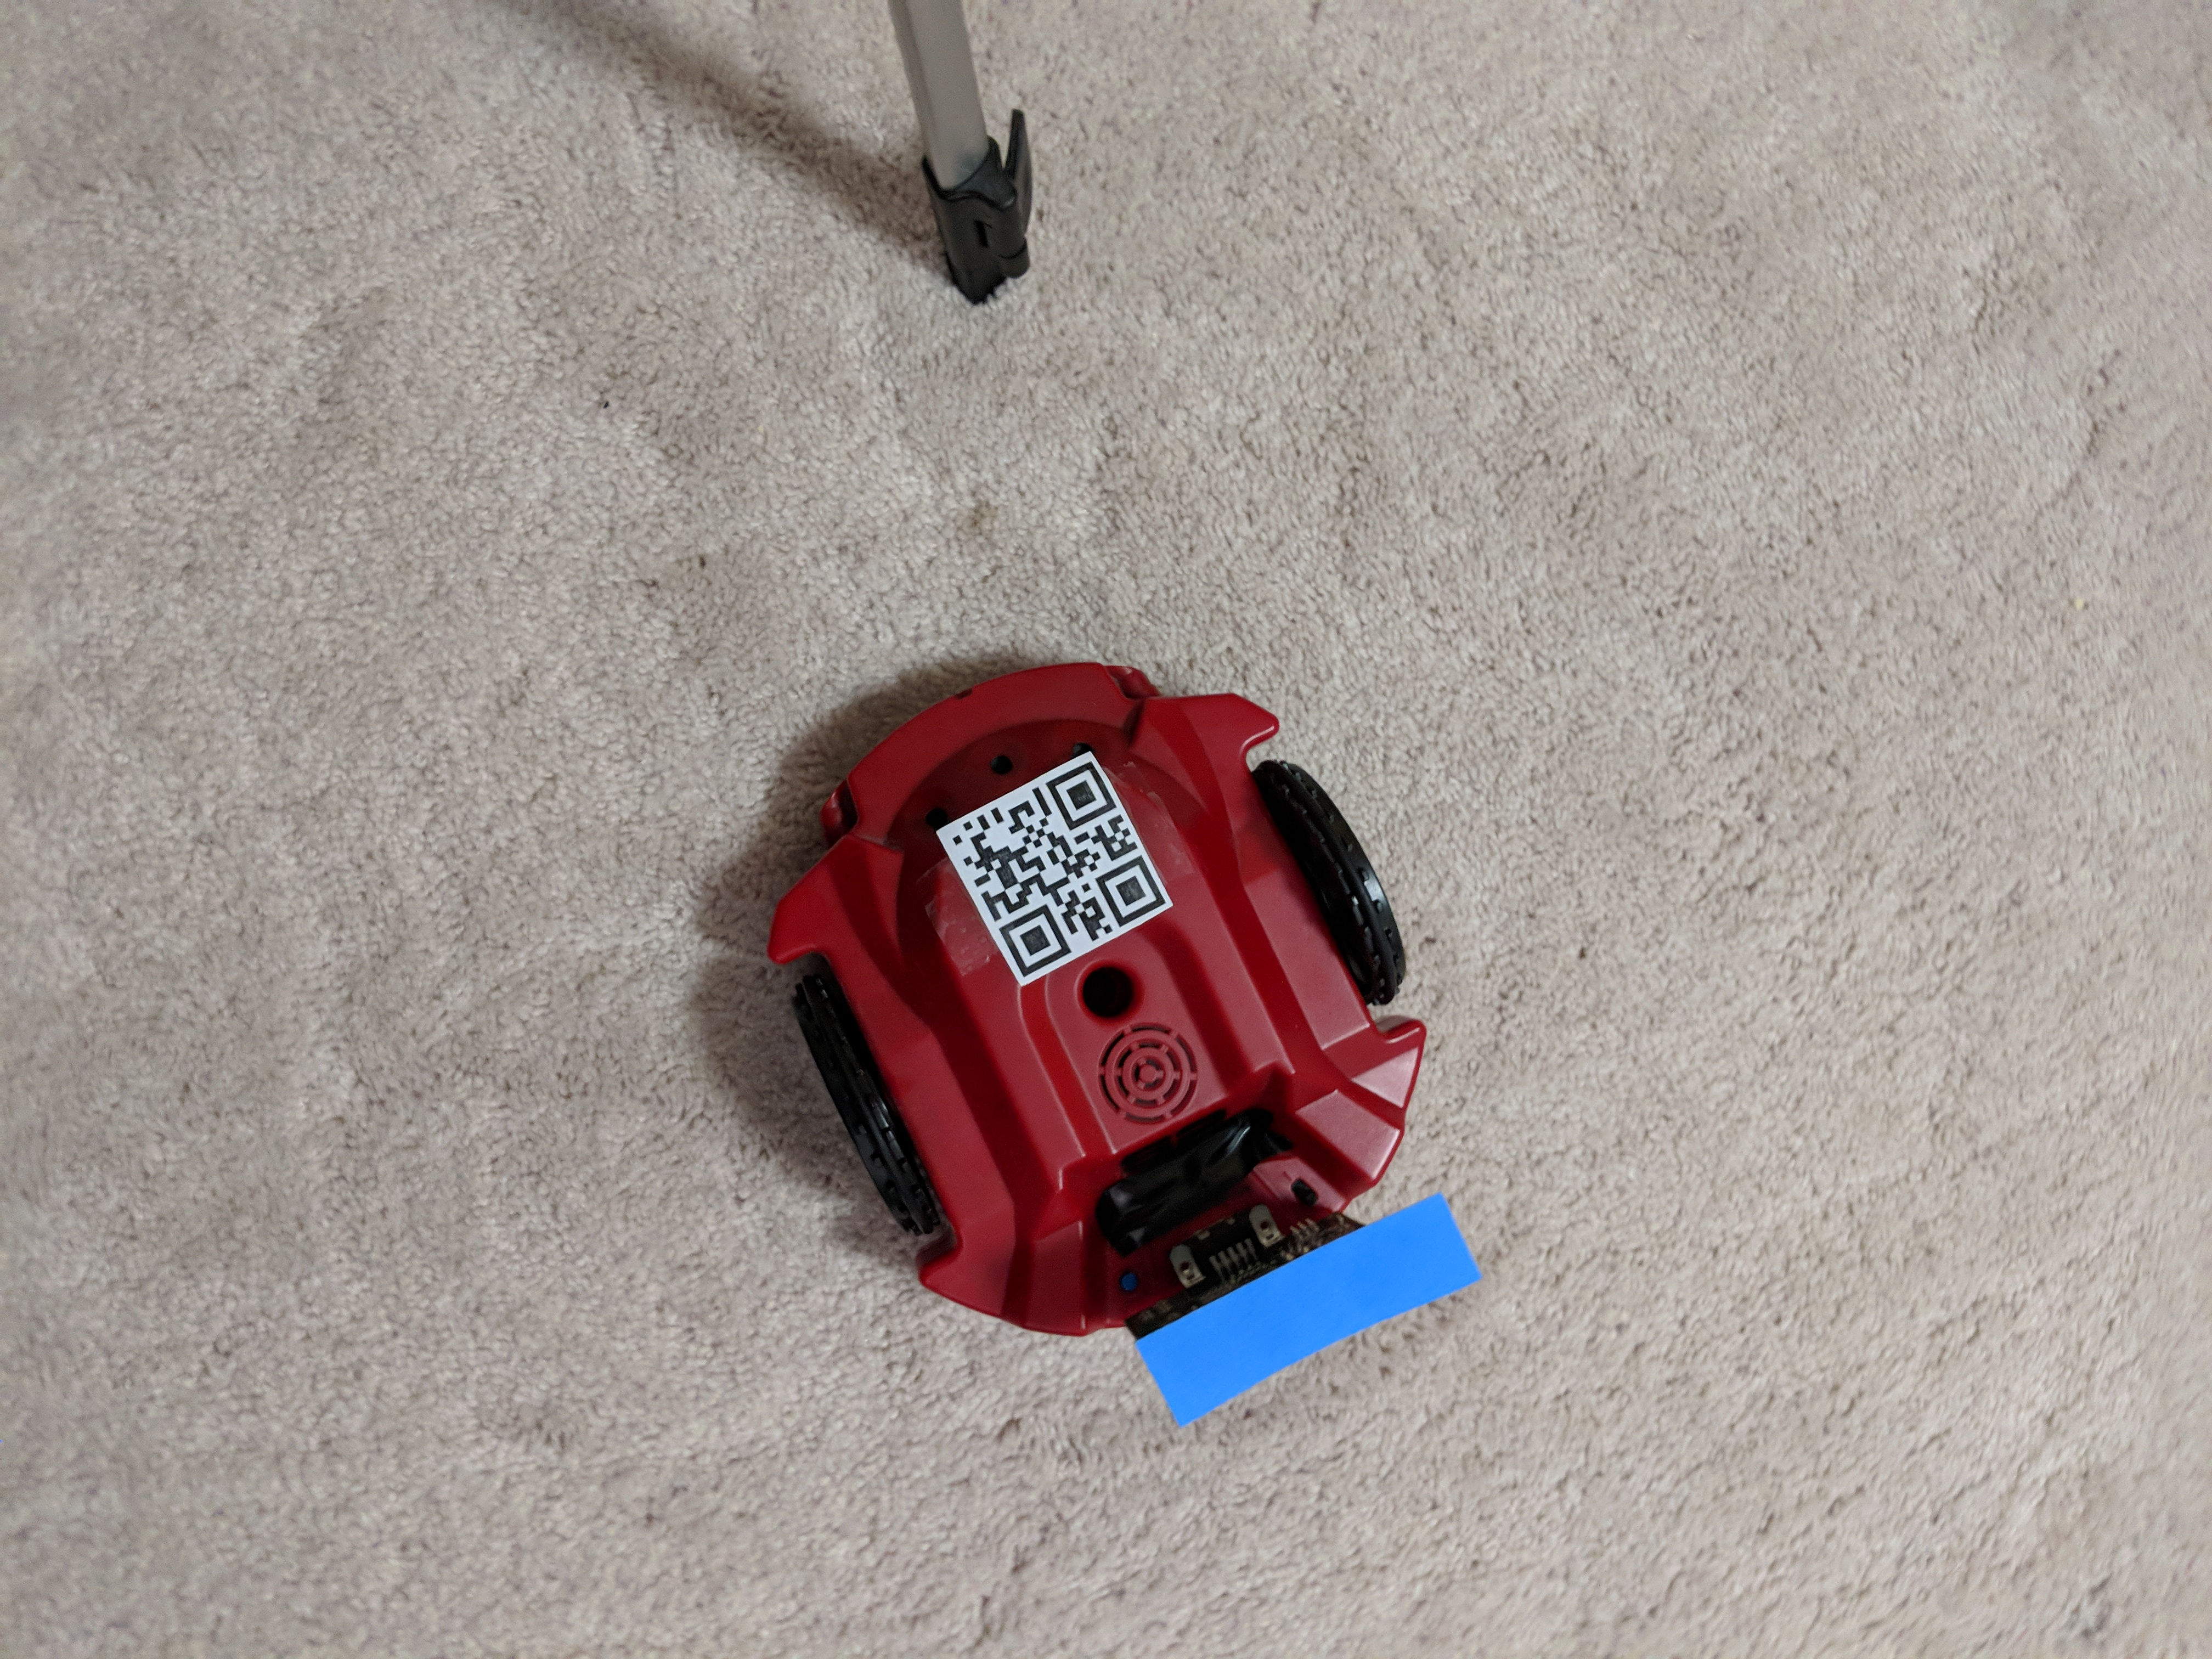chassis: (742, 647, 1454, 1389)
qr: (930, 741, 1170, 972)
